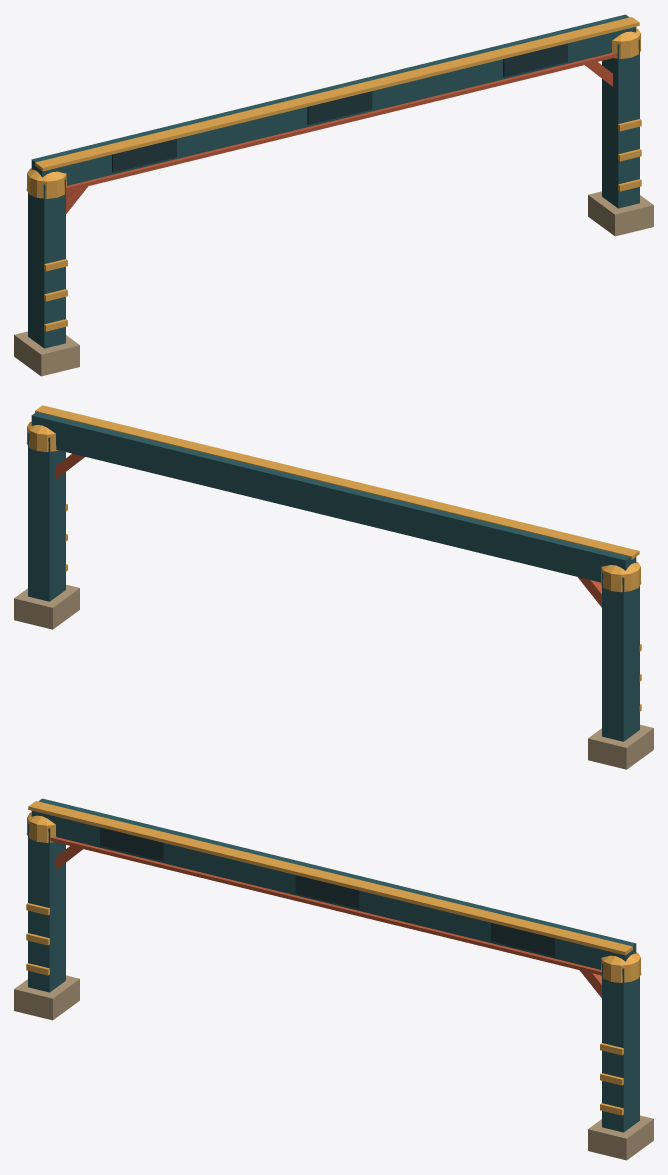
The model's file is signal_gate.glb.
3 renders of one model, top to bottom at view 1: azimuth 30°, elevation 25°; view 2: azimuth 150°, elevation 25°; view 3: azimuth 330°, elevation 25°, orthographic.
Parts seen in each view (by area): view 1: LOD0; view 2: LOD0; view 3: LOD0.
Part boxes in pixels (left/top/right/bottom): LOD0: left=14, top=14, right=653, bottom=376; LOD0: left=14, top=405, right=653, bottom=769; LOD0: left=14, top=798, right=653, bottom=1160.
Size of what is drawn, in the model's own units: 22.38 by 7.04 by 1.72.
